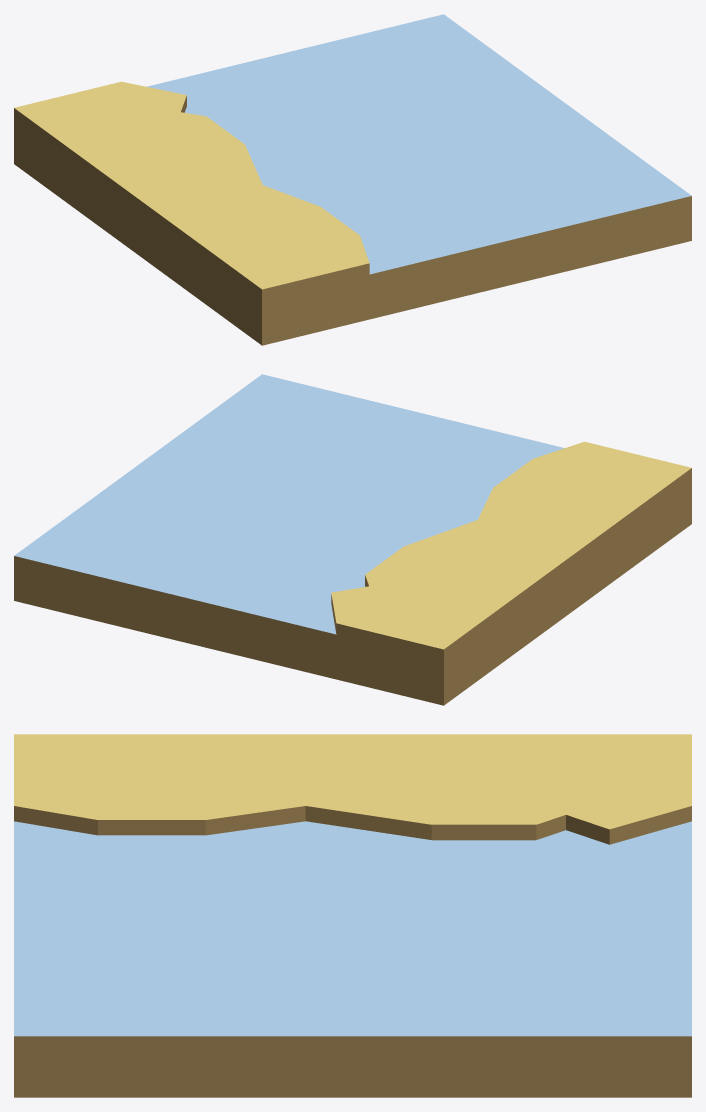
File: Terrain_Tile_Sand_Water_Bank_01.fbx
3 views of the same model, one above another, from view 1: azimuth 30°, elevation 25°; view 2: azimuth 150°, elevation 25°; view 3: azimuth 270°, elevation 25° (orthographic). The views are drawn at different scales.
Parts seen in each view (by area): view 1: Terrain_Tile_Sand_Water_Bank_01; view 2: Terrain_Tile_Sand_Water_Bank_01; view 3: Terrain_Tile_Sand_Water_Bank_01.
Part boxes in pixels (x1,y1,x2,y2): Terrain_Tile_Sand_Water_Bank_01: (14,14,691,345); Terrain_Tile_Sand_Water_Bank_01: (14,374,691,705); Terrain_Tile_Sand_Water_Bank_01: (14,734,691,1097).
Bounding box in the file's own units: 126 × 15.75 × 126.
